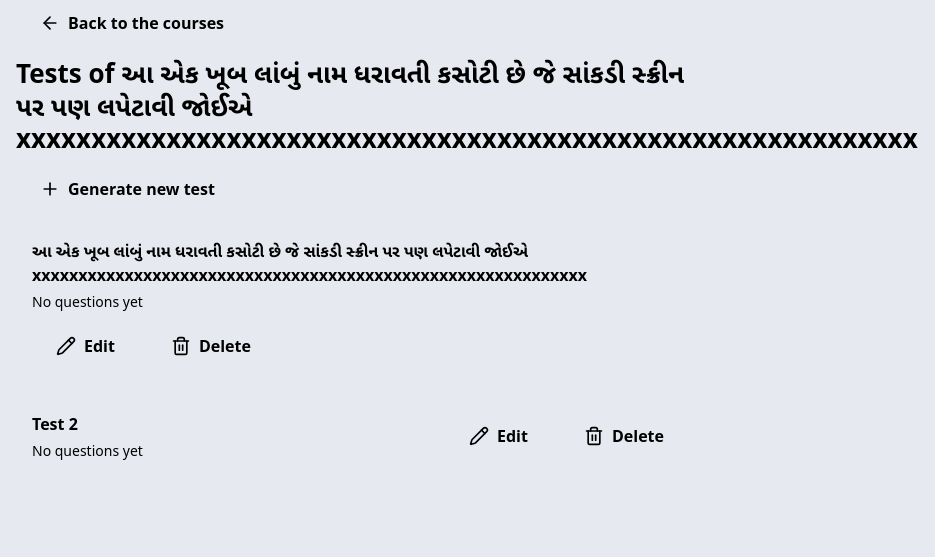
TestManager at 1366 px › still reports nothing while a delete question is open
Click the 1st button "Delete" at (211, 346), box [147,324,275,368]
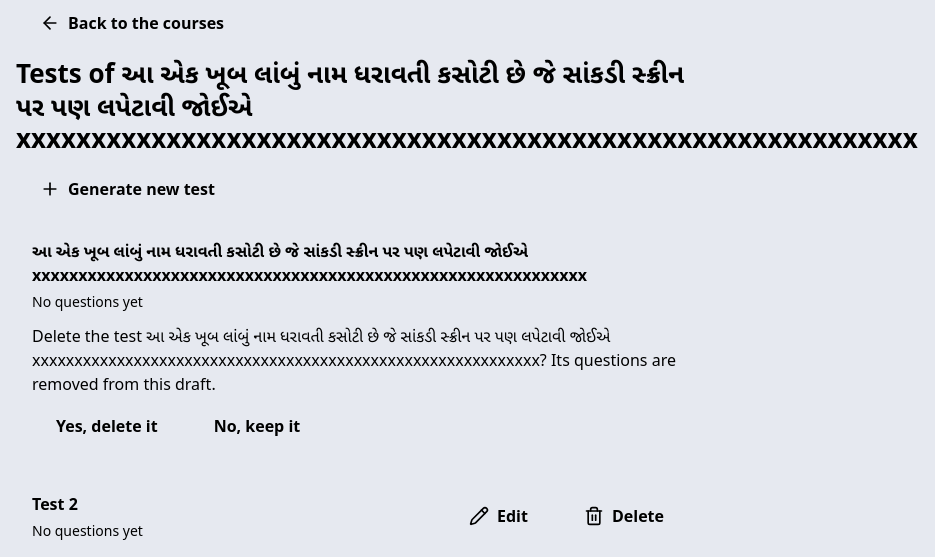
Expected: the number of elements with class "np-courses__actions" is 2, [32,404,324,448]; [445,494,688,538]
Now the button "No, keep it" is shown, box [190,404,324,448]
